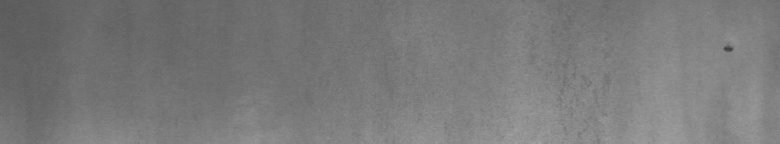fi: (723, 37, 736, 60)
